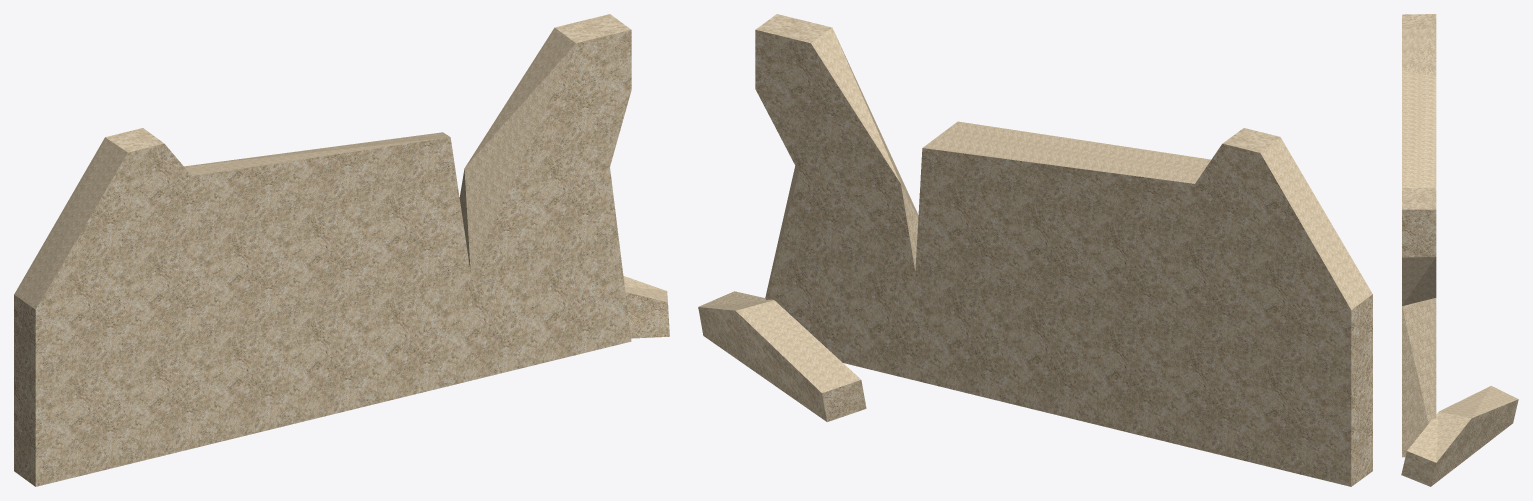
The model's file is thm_tato_imprv_wall_ruin_s02_l3.fbx.
3 views of the same model, side by side, from view 1: azimuth 30°, elevation 25°; view 2: azimuth 150°, elevation 25°; view 3: azimuth 270°, elevation 25° (orthographic). The views are drawn at different scales.
Visible parts, largest first — view 1: mesh_node; view 2: mesh_node; view 3: mesh_node.
Part boxes in pixels (x1,y1,x2,y2): mesh_node: (14,14,669,486); mesh_node: (698,14,1372,486); mesh_node: (1401,14,1518,486).
Bounding box in the file's own units: 8.77 × 4.2 × 1.72.
